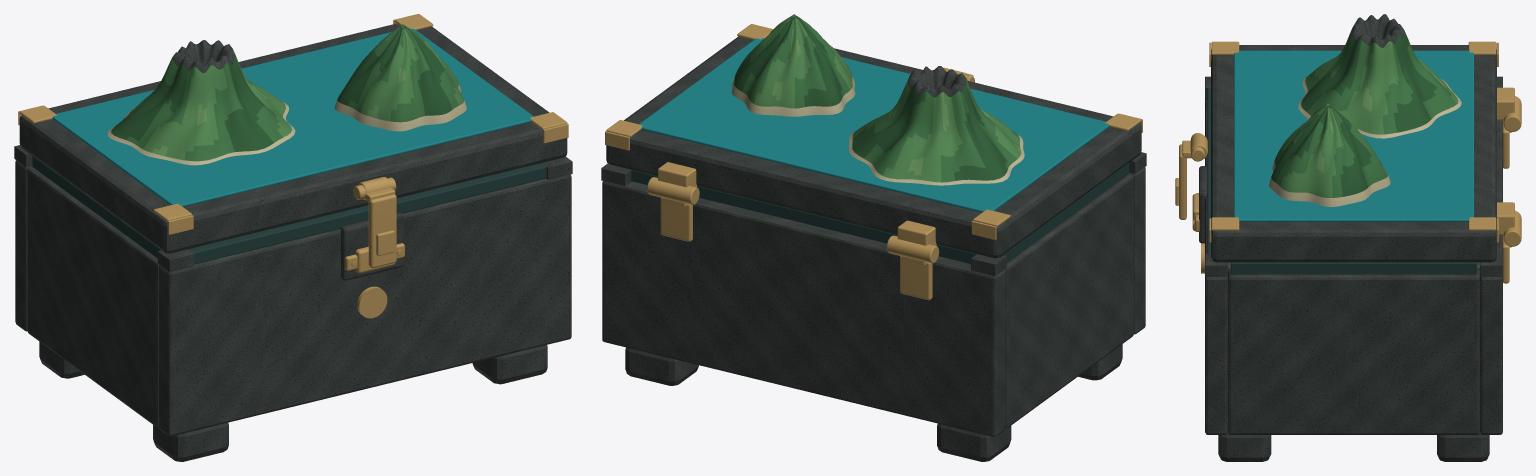
The model's file is saint-kitts-and-nevis.glb.
The picture shows the model from 3 angles, left to right: view 1: azimuth 30°, elevation 25°; view 2: azimuth 150°, elevation 25°; view 3: azimuth 270°, elevation 25°; orthographic projection. The views are drawn at different scales.
Visible parts, largest first — view 1: Stone / front, Lid / polished slab, Sea / inset, Stone / side, Terrain / Saint Kitts crater, Terrain / Nevis peak, Mineral seam / long, Stone / rear, Stone / foot, Stone / foot.002, Latch / lifting hasp, Stone / clasp seat (+4 smaller); view 2: Stone / rear, Lid / polished slab, Sea / inset, Stone / side, Terrain / Saint Kitts crater, Terrain / Nevis peak, Mineral seam / long.001, Stone / front, Stone / foot.001, Stone / foot.003, Mineral seam / side, Hinge / fixed mount.001 (+7 smaller); view 3: Stone / side.001, Sea / inset, Lid / polished slab, Terrain / Saint Kitts crater, Terrain / Nevis peak, Stone / rear, Stone / front, Mineral seam / side.001, Stone / foot.002, Stone / foot.003, Mineral seam / long, Stone / clasp seat (+11 smaller).
Boxes of the visible parts, x1,y1,x2,y2 form: Stone / front: (158, 174, 571, 436); Lid / polished slab: (19, 23, 567, 253); Sea / inset: (52, 28, 533, 206); Stone / side: (27, 167, 159, 427); Terrain / Saint Kitts crater: (107, 40, 295, 165); Terrain / Nevis peak: (334, 24, 466, 131); Mineral seam / long: (188, 163, 546, 264); Stone / rear: (15, 160, 32, 331); Stone / foot: (153, 422, 228, 461); Stone / foot.002: (472, 345, 547, 384); Latch / lifting hasp: (368, 194, 396, 268); Stone / clasp seat: (340, 212, 403, 280); Stone / rear: (602, 181, 1005, 436); Lid / polished slab: (606, 36, 1141, 258); Sea / inset: (639, 38, 1109, 212); Stone / side: (1005, 174, 1134, 428); Terrain / Saint Kitts crater: (849, 66, 1024, 185); Terrain / Nevis peak: (731, 14, 855, 116); Mineral seam / long.001: (631, 170, 976, 263); Stone / front: (1129, 167, 1145, 334); Stone / foot.001: (937, 423, 1011, 461); Stone / foot.003: (625, 347, 698, 385); Mineral seam / side: (1003, 163, 1129, 262); Hinge / fixed mount.001: (660, 197, 692, 241); Stone / side.001: (1228, 270, 1479, 434); Sea / inset: (1234, 50, 1473, 221); Lid / polished slab: (1211, 45, 1496, 262); Terrain / Saint Kitts crater: (1298, 14, 1461, 138); Terrain / Nevis peak: (1269, 103, 1390, 206); Stone / rear: (1480, 120, 1502, 434); Stone / front: (1205, 100, 1227, 434); Mineral seam / side.001: (1231, 262, 1476, 274); Stone / foot.002: (1218, 433, 1271, 461); Stone / foot.003: (1437, 432, 1489, 461); Mineral seam / long: (1207, 88, 1210, 253); Stone / clasp seat: (1199, 166, 1207, 243).
Bounding box in the file's own units: 3.72 × 2.93 × 2.88.
Materials: 10 (1 with a texture image).
